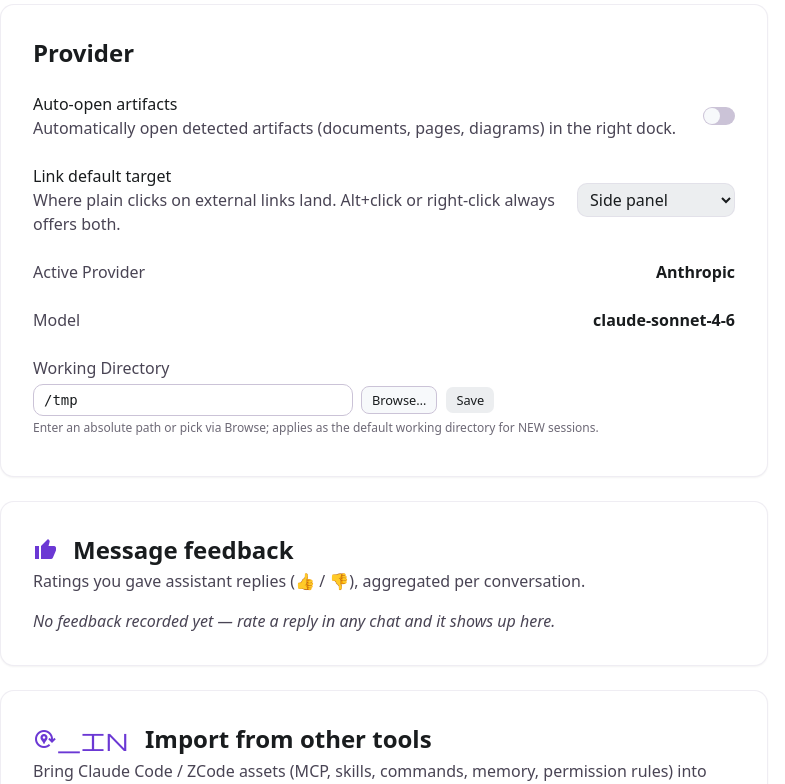
Scenario: GeneralSettings › Default working directory (writable) › Browse fills the draft from the OS directory picker without writing
(page scrolled)
Expected: the field with test id "settings-working-dir-input" holds "/tmp", x1=33 y1=384 x2=353 y2=416
Click the button with test id "settings-working-dir-browse" at (399, 400), box x1=361 y1=386 x2=437 y2=414
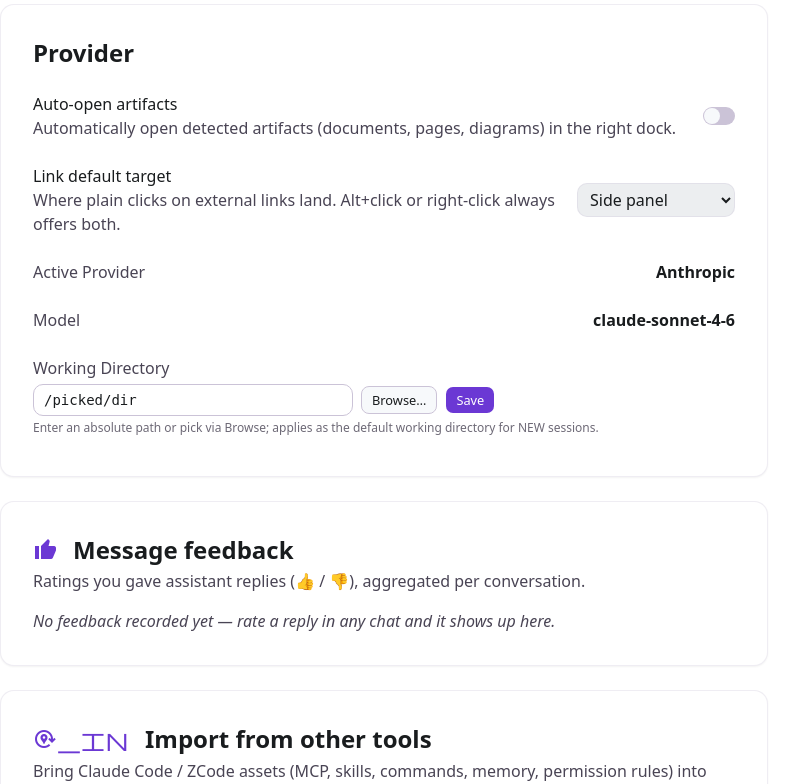
Result: the field with test id "settings-working-dir-input" holds "/picked/dir" at x1=33 y1=384 x2=353 y2=416
